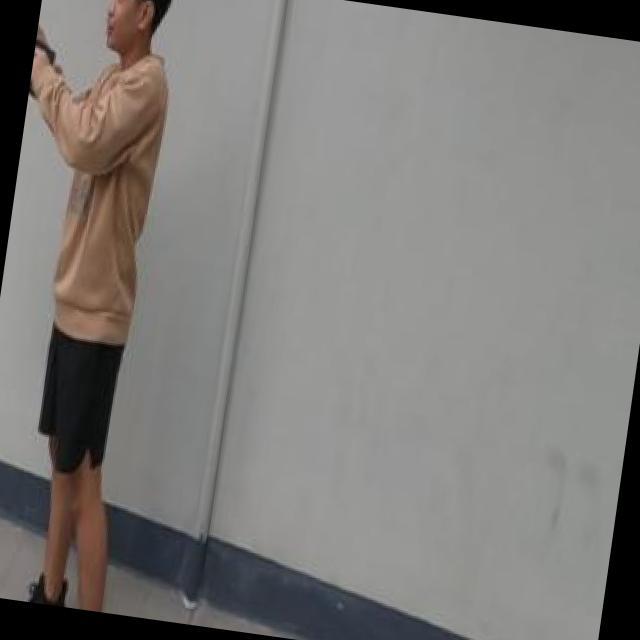Guns: (28, 14, 68, 105)
